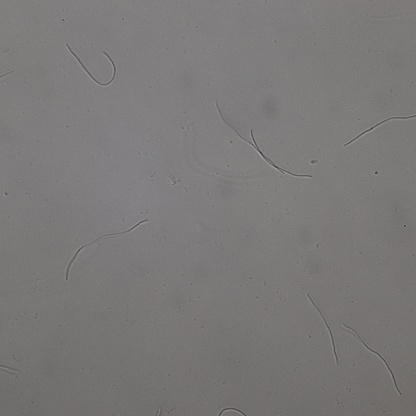Sensitive: (218, 103, 311, 179), (66, 219, 148, 280), (344, 325, 401, 393), (344, 114, 416, 146), (67, 43, 117, 87), (308, 294, 339, 361), (217, 407, 246, 416)
